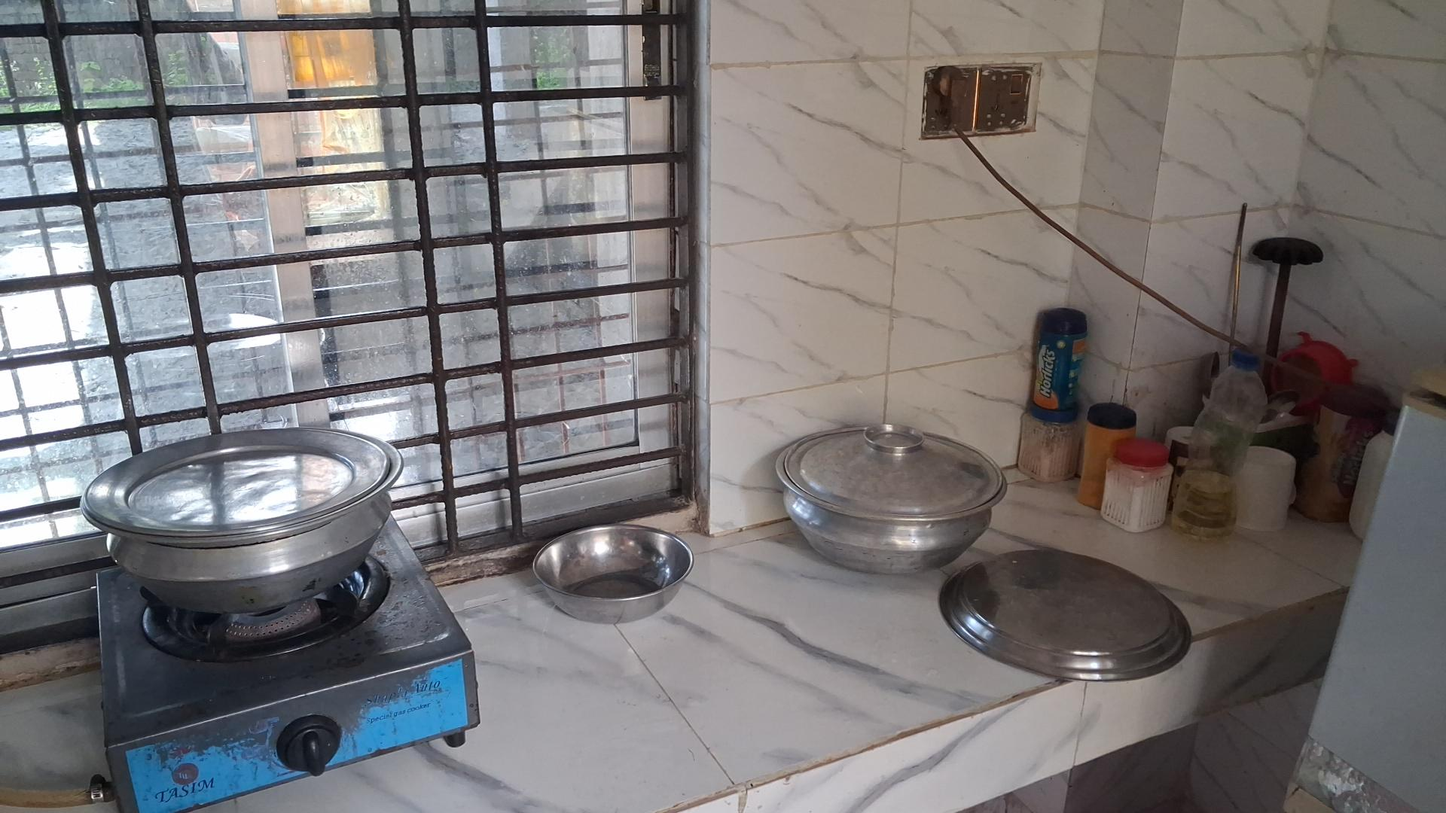Bottle: (1176, 344, 1261, 517)
Bowl: (532, 523, 693, 624)
Cup: (1234, 444, 1297, 532)
Jar: (1098, 439, 1173, 533), (1074, 409, 1129, 517), (1031, 313, 1089, 411), (1011, 409, 1074, 483)
Plate: (937, 553, 1193, 677)
Pot: (86, 431, 403, 608), (775, 424, 1006, 575)
